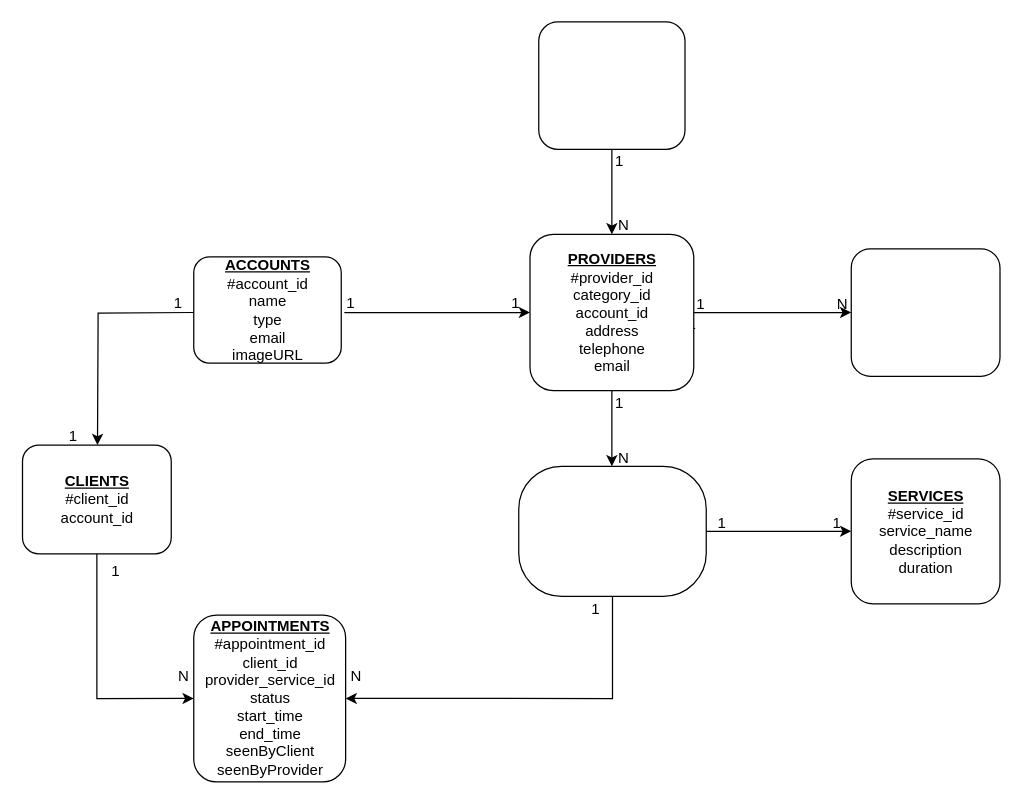
The diagram is 1021 pixels wide and 804 high, and some of its shapes have lost their labels. Each missing label, with the centre of its shape:
CATEGORY #category_id category_name: the point at 611,85
PROVIDER_SERVICES #provider_services_id service_id provider_id: the point at 612,530
SCHEDULES #schedule_id provider_id week_day start_time end_time: the point at 925,312
